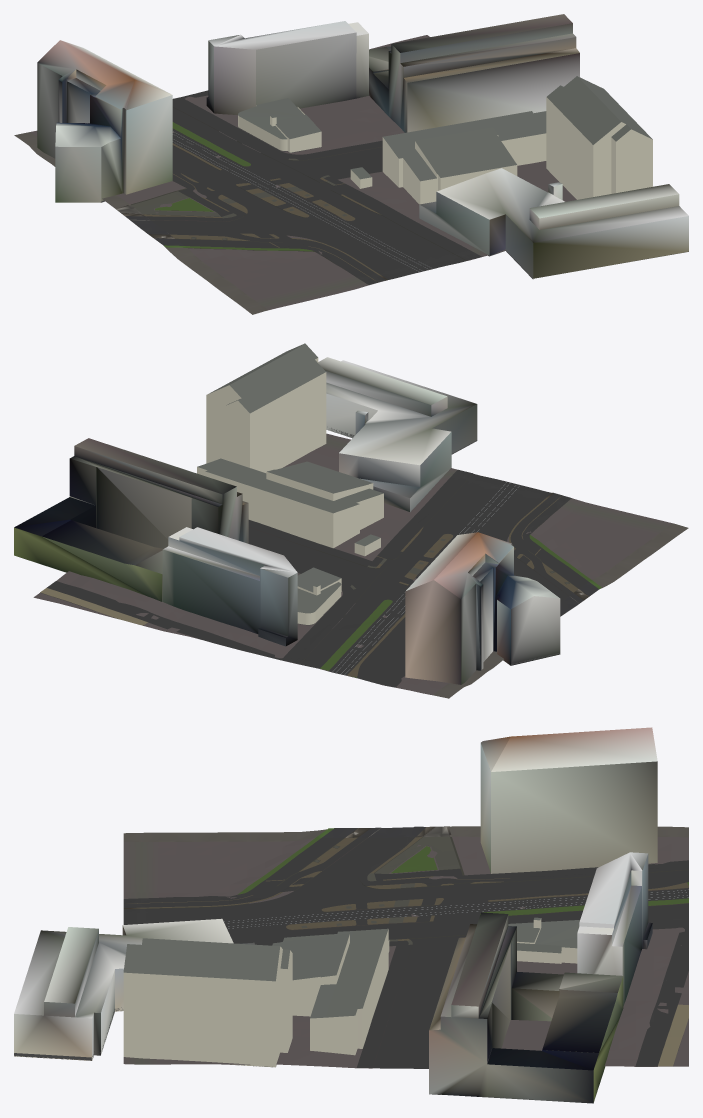
The picture shows the model from 3 angles, top to bottom: view 1: azimuth 30°, elevation 25°; view 2: azimuth 150°, elevation 25°; view 3: azimuth 270°, elevation 25°; orthographic projection. The views are drawn at different scales.
Visible parts, largest first — view 1: c_m14_m01; view 2: c_m14_m01; view 3: c_m14_m01.
Boxes of the visible parts, x1,y1,x2,y2 form: c_m14_m01: [14, 14, 688, 314]; c_m14_m01: [14, 343, 688, 698]; c_m14_m01: [14, 727, 688, 1103].
Bounding box in the file's own units: 157 × 30.82 × 153.
